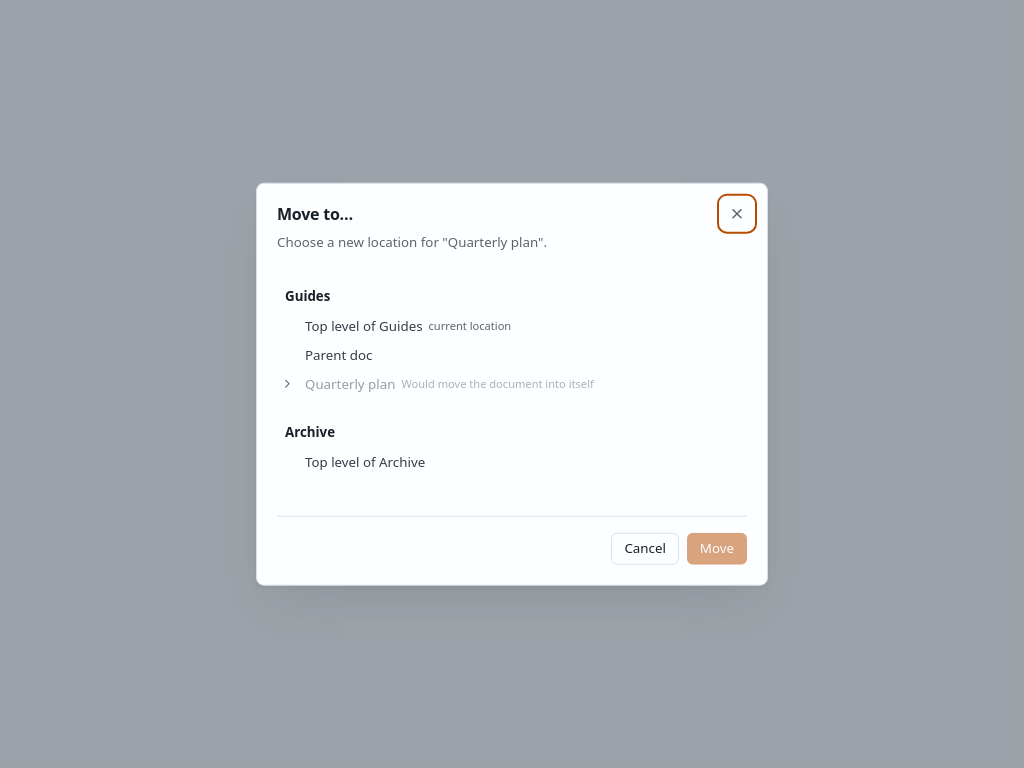
Scenario: MoveDocumentDialog › shows the workspace’s collections and documents as a destination tree
Expected: the button "Parent doc" is shown, [299,340,747,368]
Expected: the button "Top level of Guides current location" is shown, [299,311,747,339]
A branch is closed until opened, so a workspace of thousands is a short list.
Click the button named "Expand Quarterly plan" at (287, 383), box [277,373,297,393]
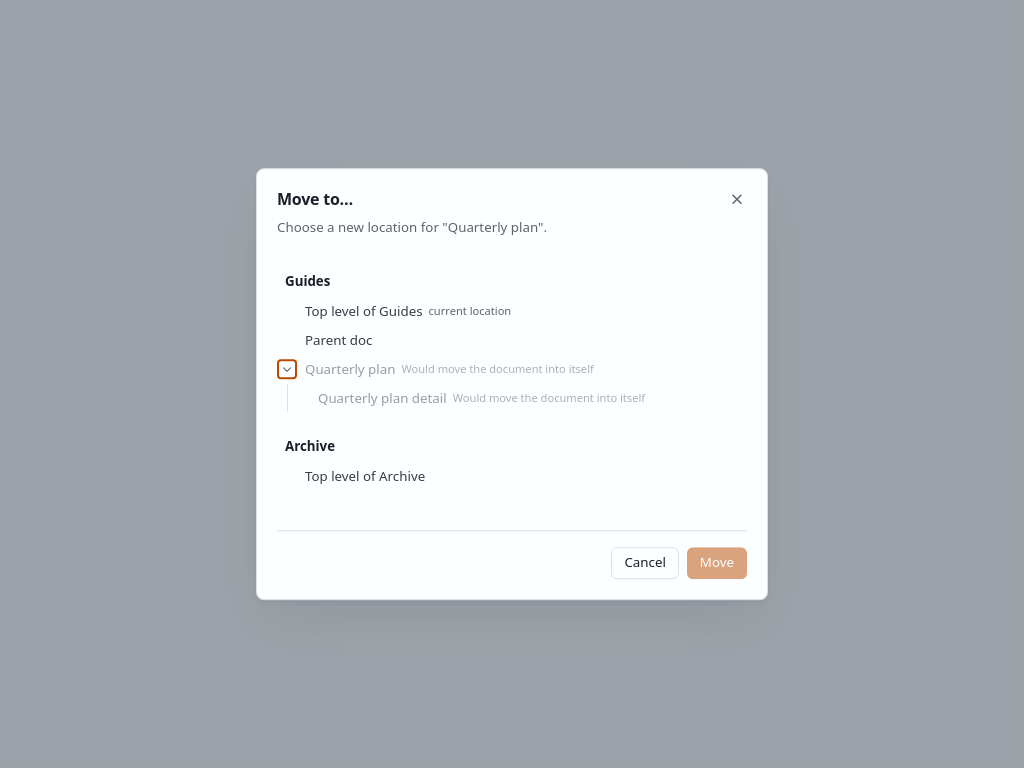
Expected: the button "Quarterly plan detail Would move the document into itself" is shown, [312,384,747,412]
